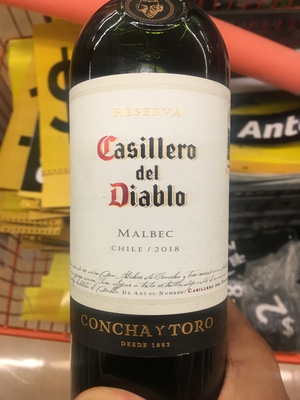casillero del diablo malbec: (66, 18, 243, 391)
